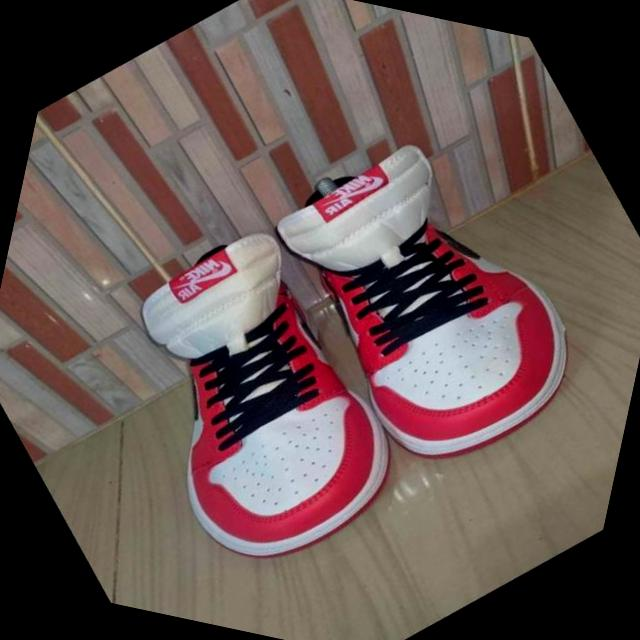nike_fake_jordan: (203, 69, 640, 528), (42, 186, 464, 617)
